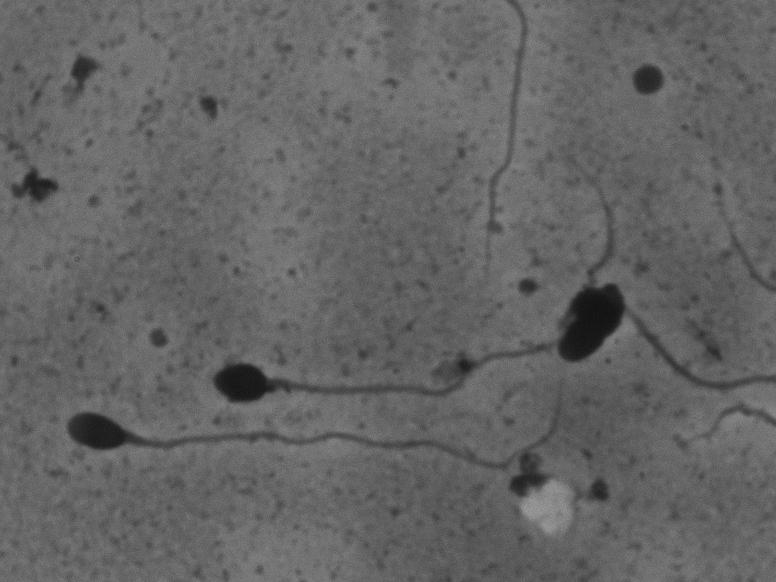Abnormal: (193, 145, 628, 408)
Normal: (51, 403, 515, 504)
